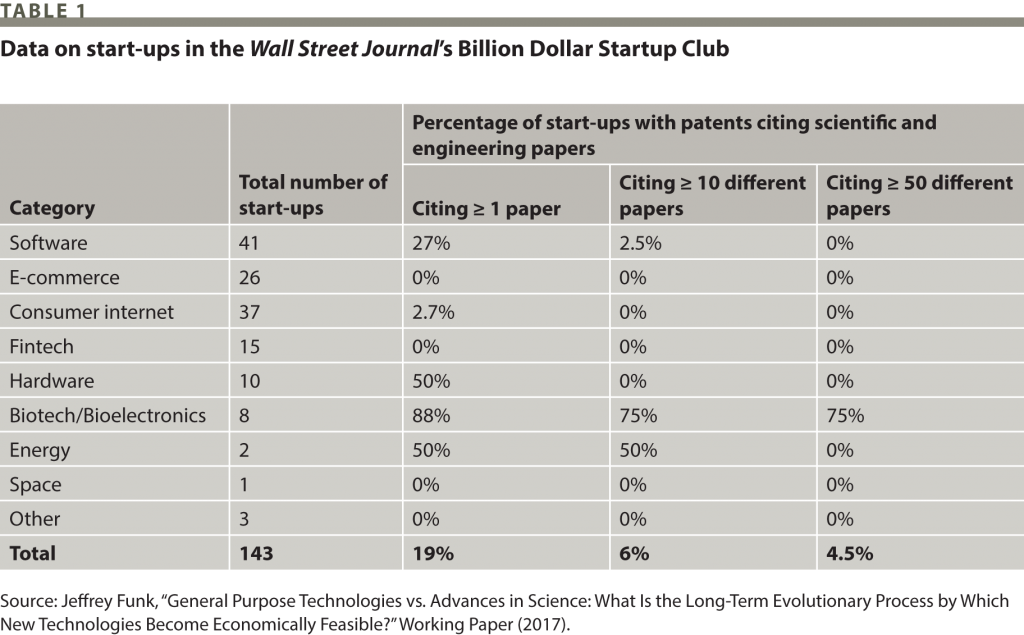fracking table: (1, 1, 1024, 574)
